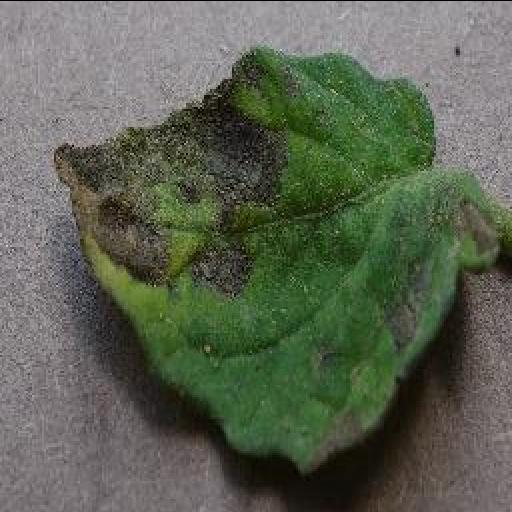disease_tomato: (50, 44, 512, 465)
